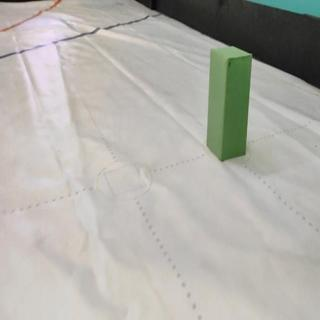greenbox: (206, 45, 252, 160)
